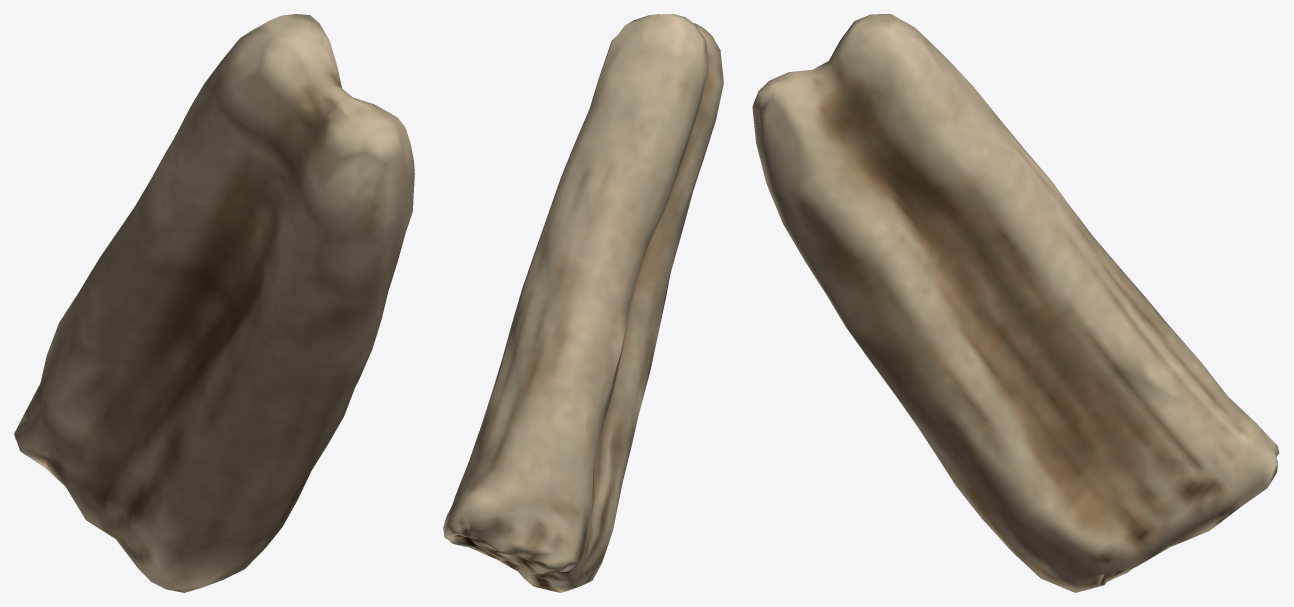
Rendered from Maxilary_Premolar5.glb.
3 views of the same model, side by side, from view 1: azimuth 30°, elevation 25°; view 2: azimuth 150°, elevation 25°; view 3: azimuth 270°, elevation 25° (orthographic). The views are drawn at different scales.
Visible parts, largest first — view 1: Maxilary_Premolar5.glb; view 2: Maxilary_Premolar5.glb; view 3: Maxilary_Premolar5.glb.
Boxes of the visible parts, x1,y1,x2,y2 form: Maxilary_Premolar5.glb: [14, 14, 414, 592]; Maxilary_Premolar5.glb: [443, 14, 723, 592]; Maxilary_Premolar5.glb: [752, 14, 1279, 592].
Bounding box in the file's own units: 0.0221 × 0.0723 × 0.0615.
1 material, 1 textured.
